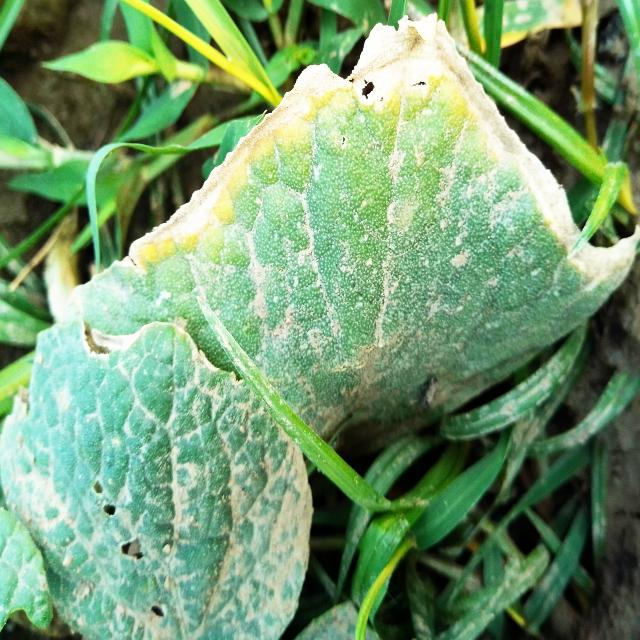Gummy-Stem-Blight: (111, 9, 640, 291)
